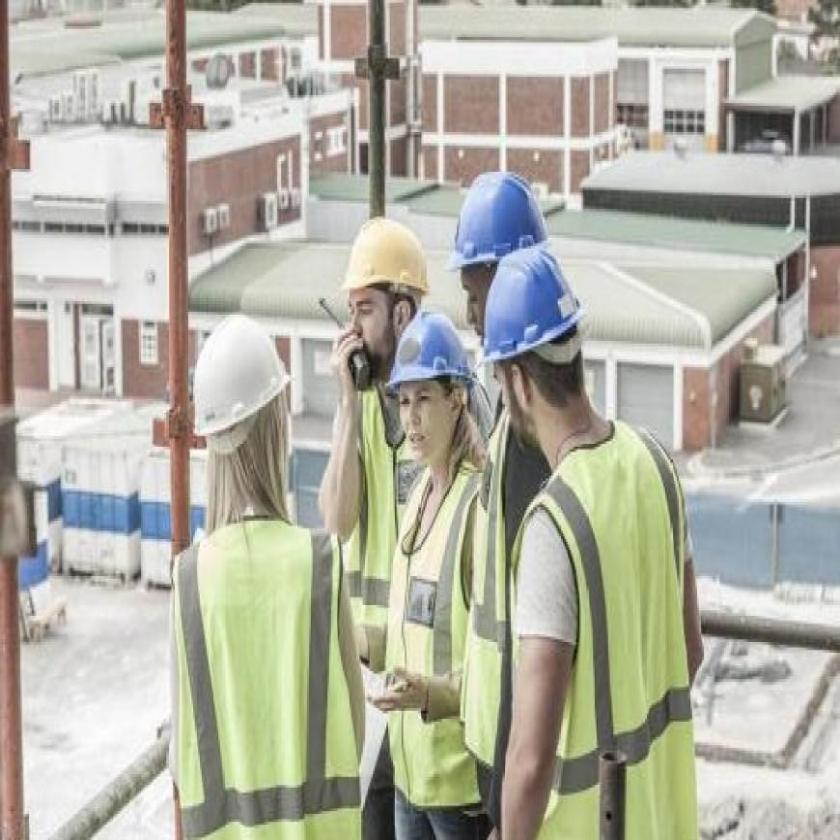Con_casco: (482, 244, 594, 451), (344, 217, 428, 400), (394, 310, 478, 472)
